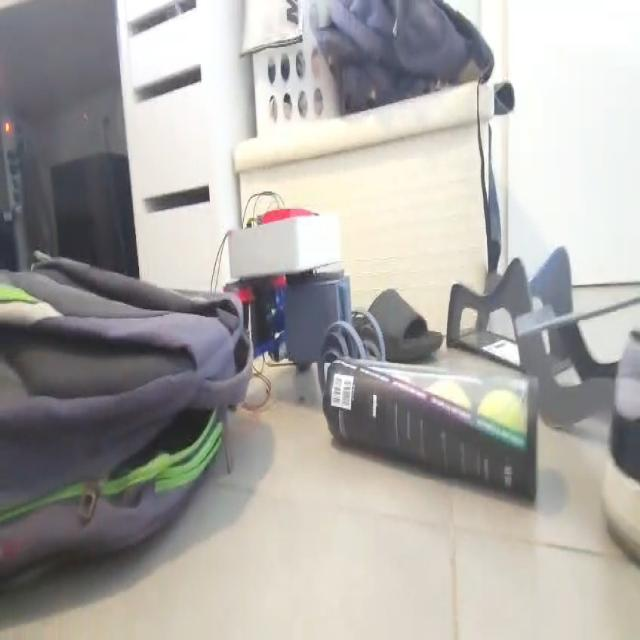Robot: (222, 204, 386, 396)
